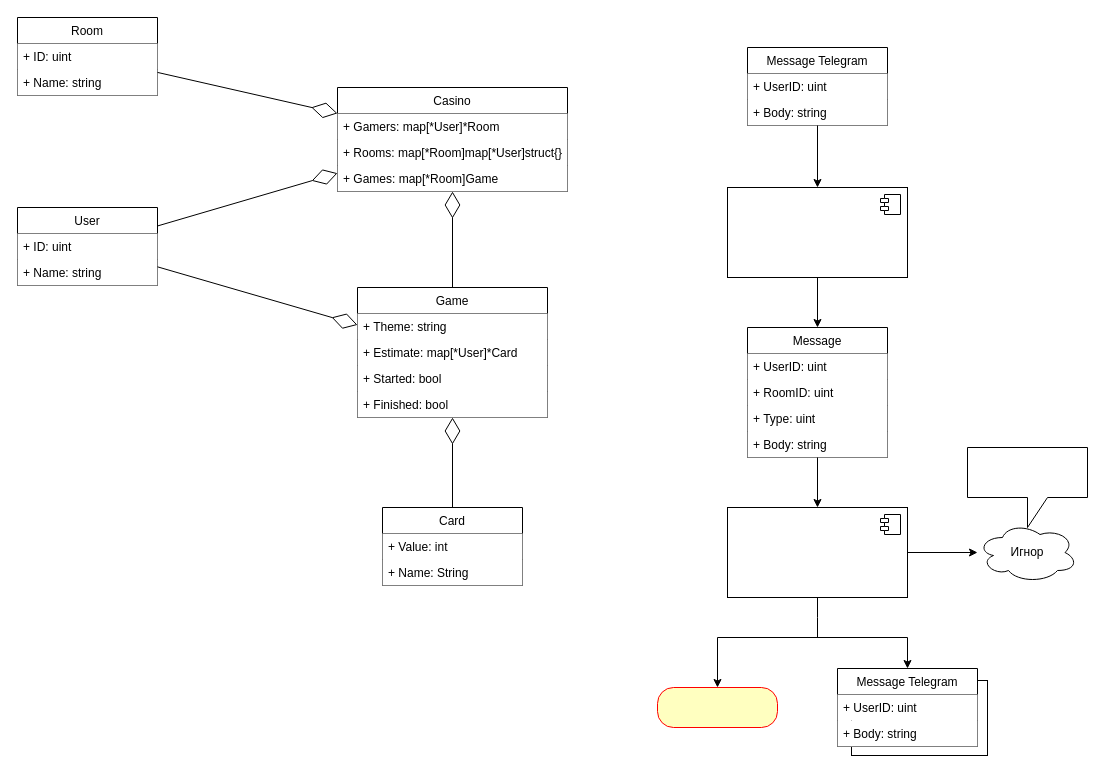
This 1105x773 diagram has some shape labels left out. The centre of each missing label's shape, as x and y in pixels:
"Cange state" belongs at point 717,707.
"«Connector» Component" belongs at point 817,232.
"«Controller» Component" belongs at point 817,552.
"Не распознанные по типу" belongs at point 1027,487.
